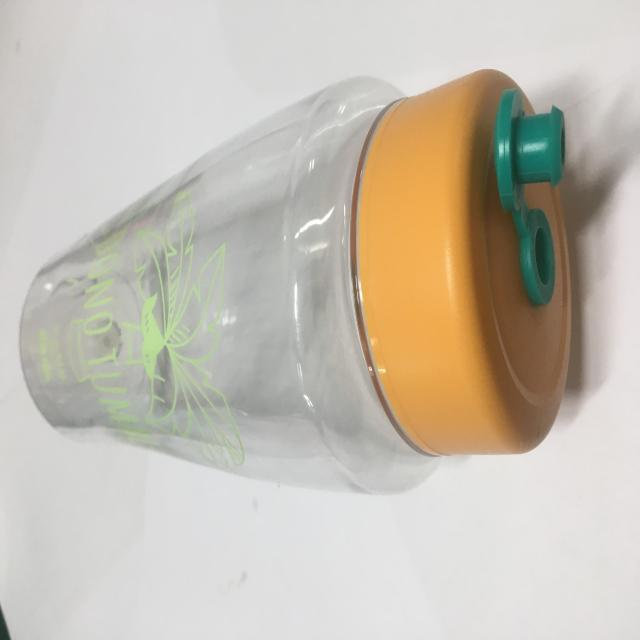bottle: (20, 65, 589, 517)
